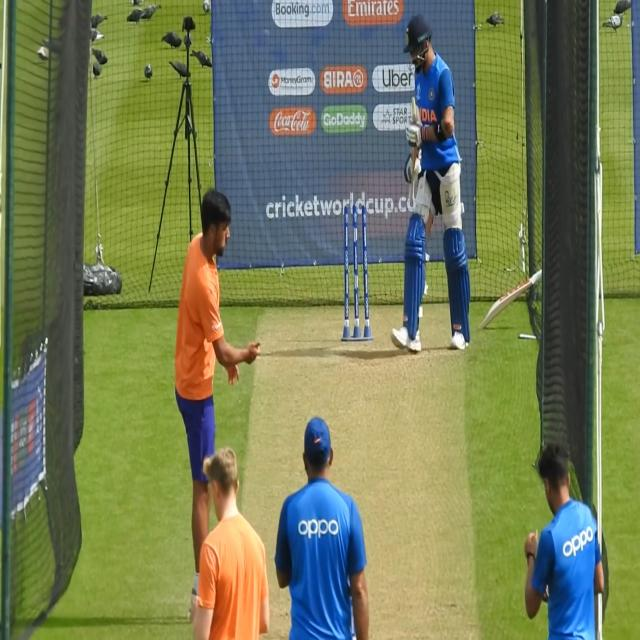stump: (341, 201, 372, 343)
